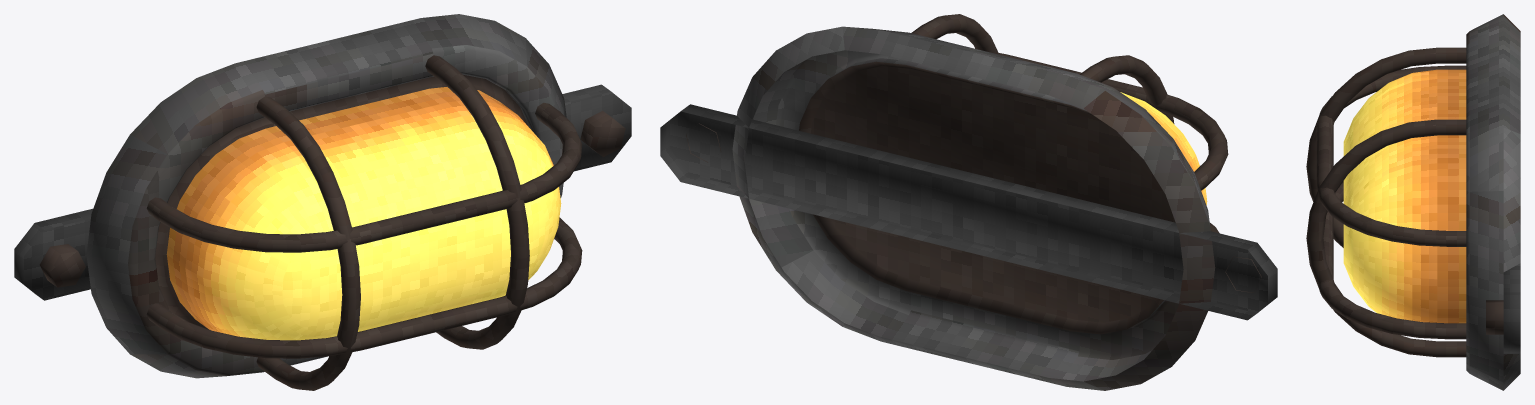
The model's file is lamp_2.glb.
3 renders of one model, left to right at view 1: azimuth 30°, elevation 25°; view 2: azimuth 150°, elevation 25°; view 3: azimuth 270°, elevation 25°, orthographic. The views are drawn at different scales.
Parts seen in each view (by area): view 1: lamp_2; view 2: lamp_2; view 3: lamp_2.
Boxes of the visible parts, bbox=[...] form: lamp_2: bbox=[14, 14, 631, 390]; lamp_2: bbox=[660, 14, 1277, 390]; lamp_2: bbox=[1306, 14, 1520, 390].
Bounding box in the file's own units: 0.36 × 0.176 × 0.126.
Materials: 4 (4 with a texture image).
